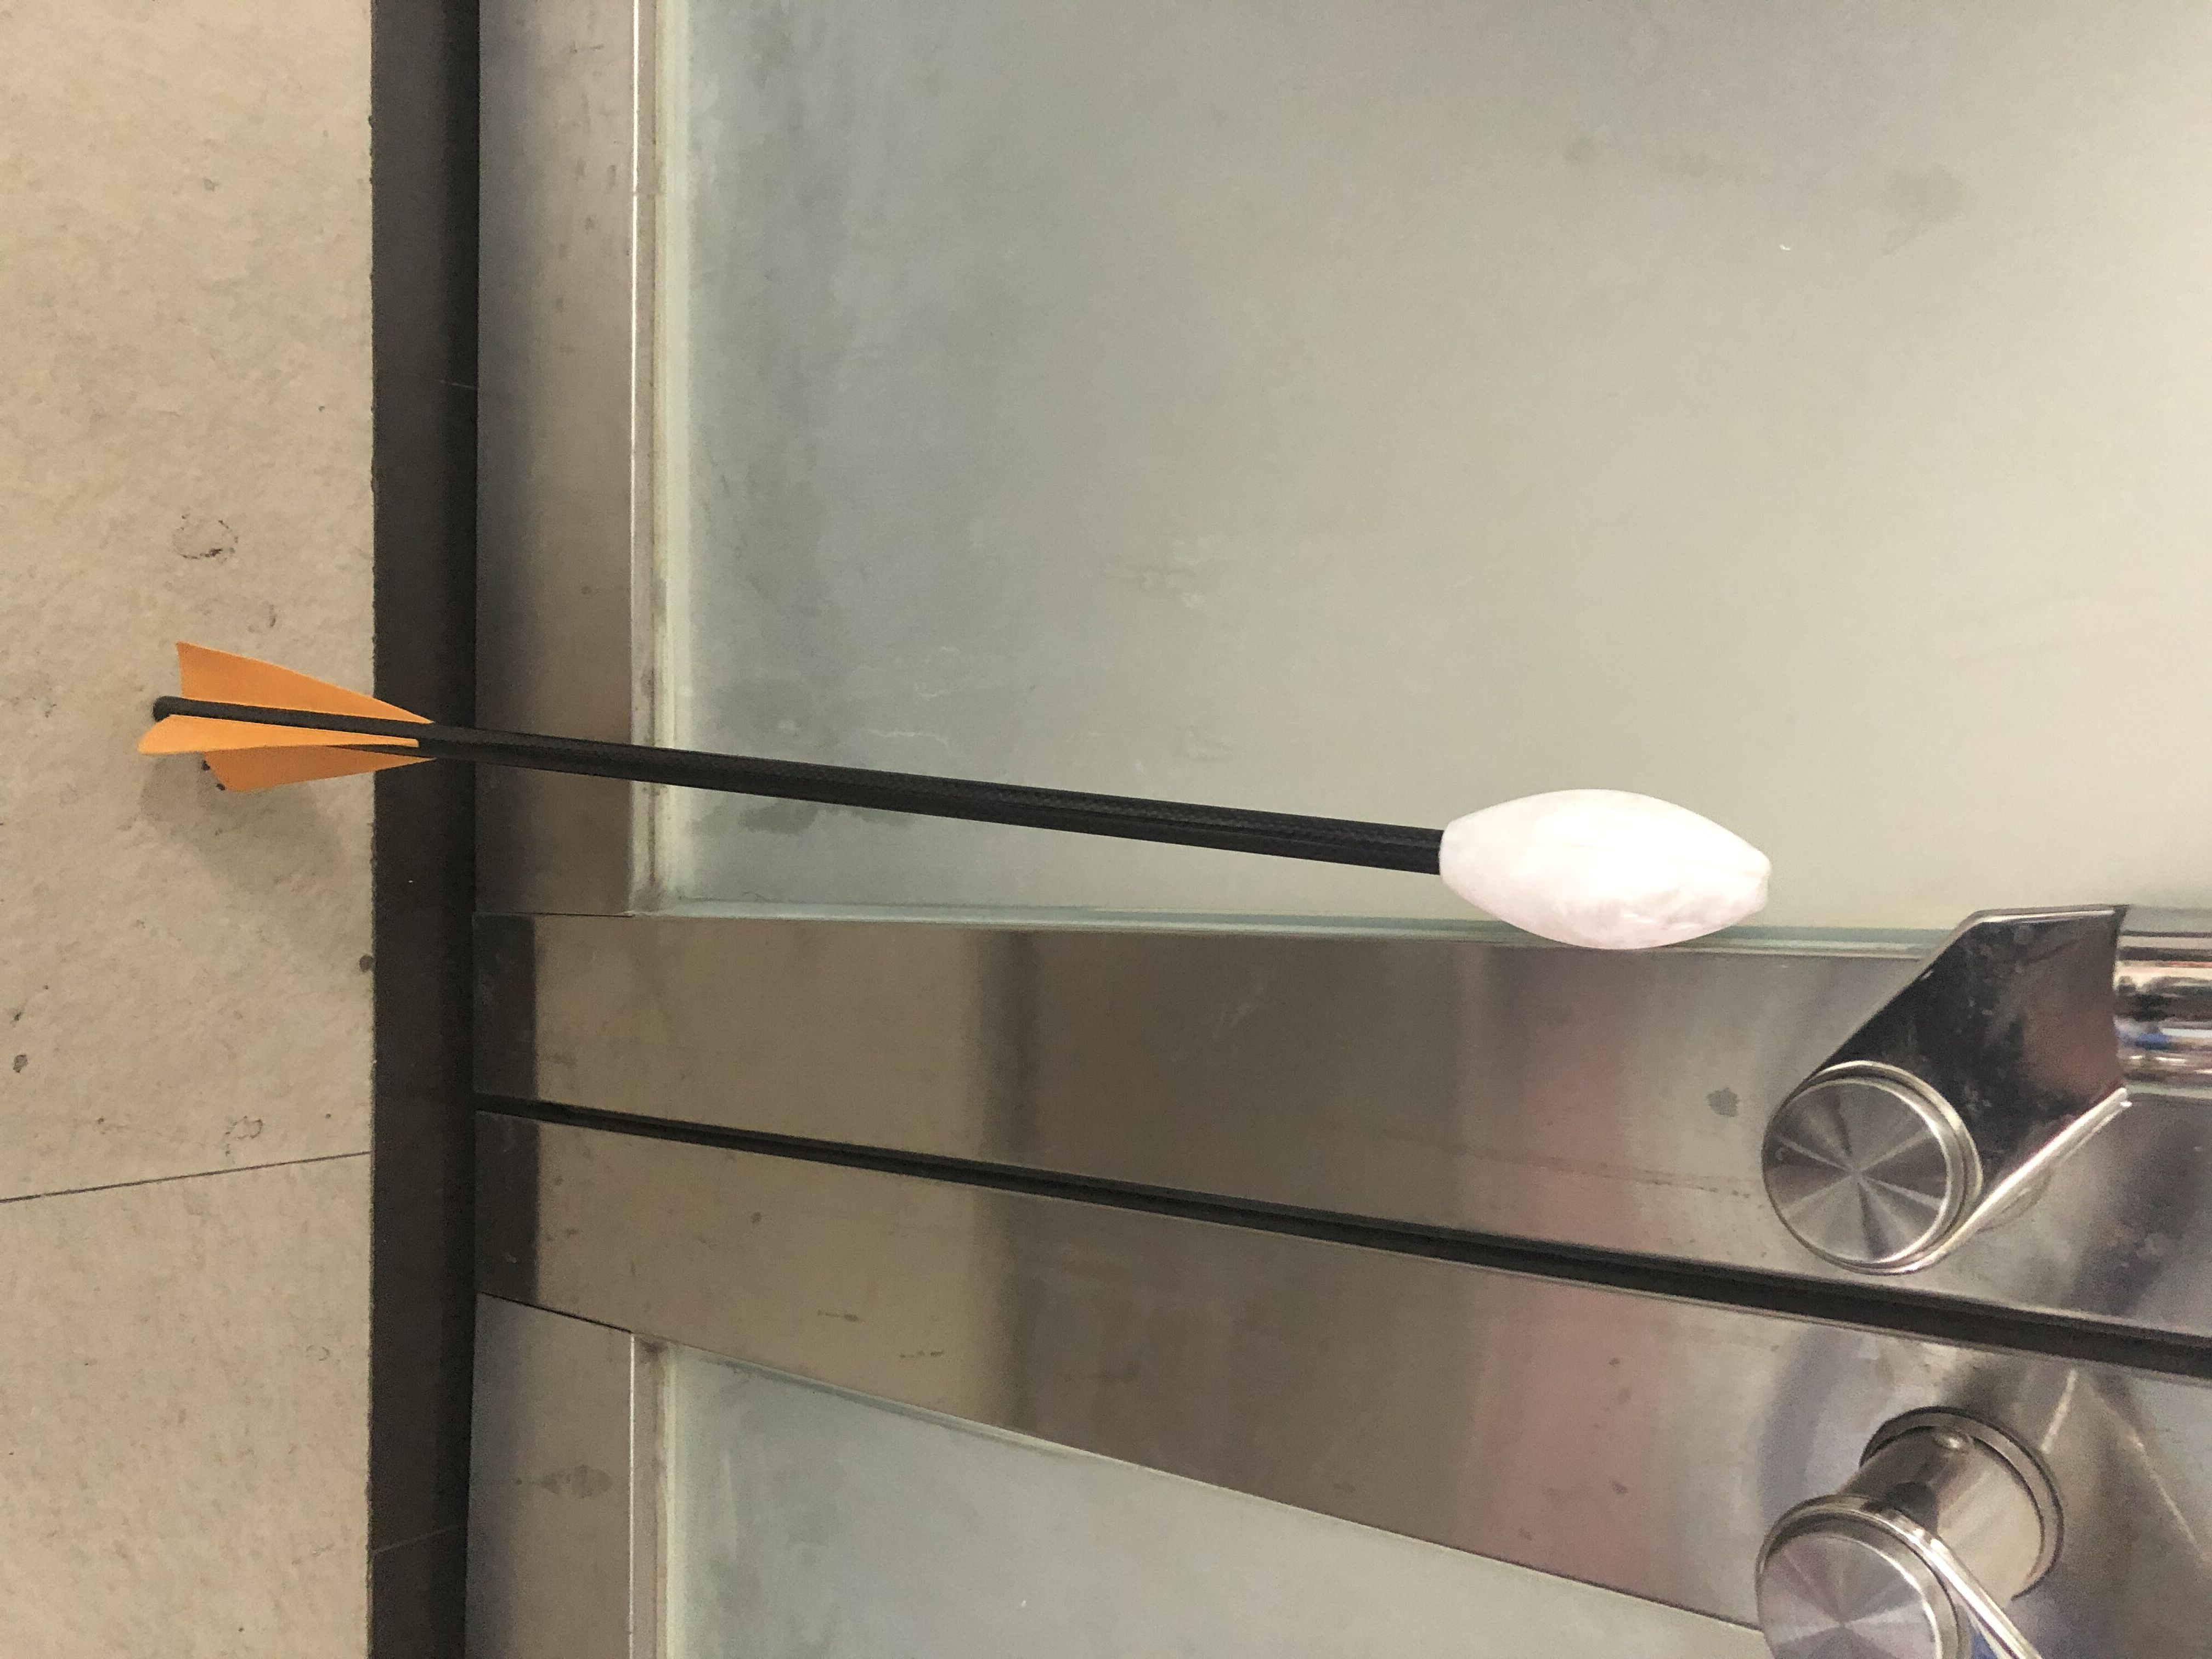arrow: (129, 627, 1789, 958)
arrowFront: (1435, 788, 1775, 960)
